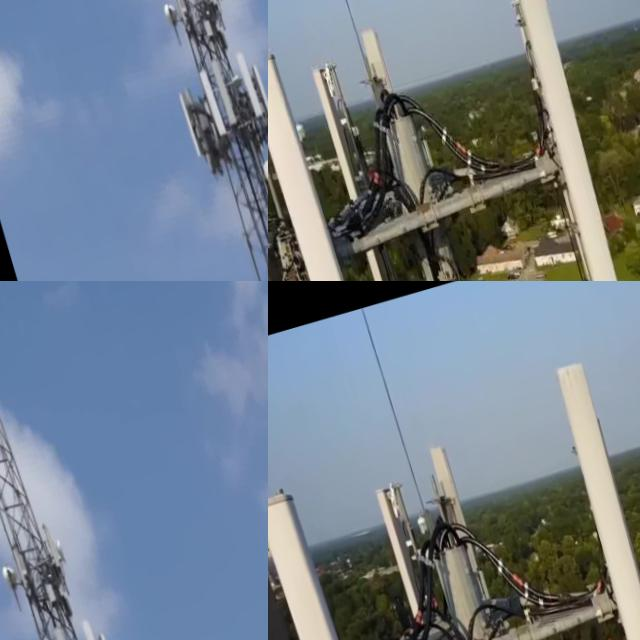GSM Antenna: (482, 0, 640, 281), (268, 41, 420, 281), (534, 344, 640, 640), (268, 475, 450, 640), (303, 51, 411, 281), (268, 443, 372, 640), (364, 472, 479, 640), (268, 15, 338, 281), (421, 436, 491, 584), (355, 22, 422, 172), (171, 72, 221, 177), (202, 37, 249, 141), (193, 54, 238, 151), (229, 37, 268, 146), (241, 41, 268, 140), (42, 520, 65, 572), (79, 611, 117, 640), (52, 621, 88, 640)
Microwave Antenna: (0, 556, 27, 599), (159, 0, 184, 27), (54, 536, 72, 566), (261, 152, 268, 186)
